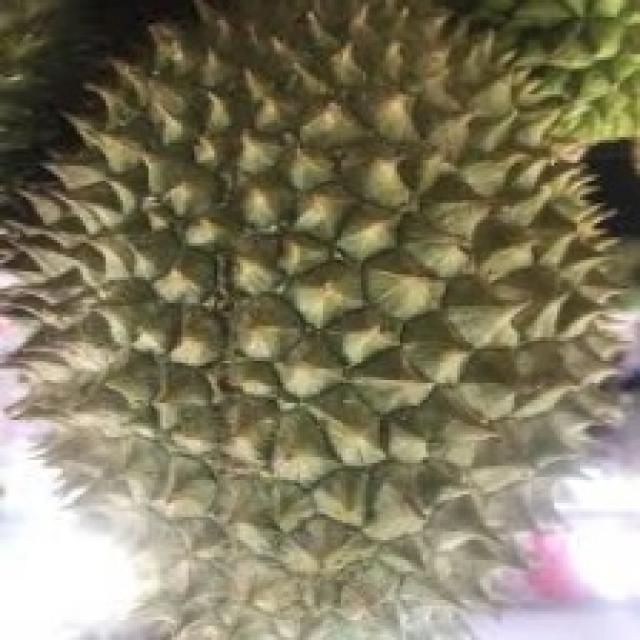d2: (58, 61, 603, 549)
